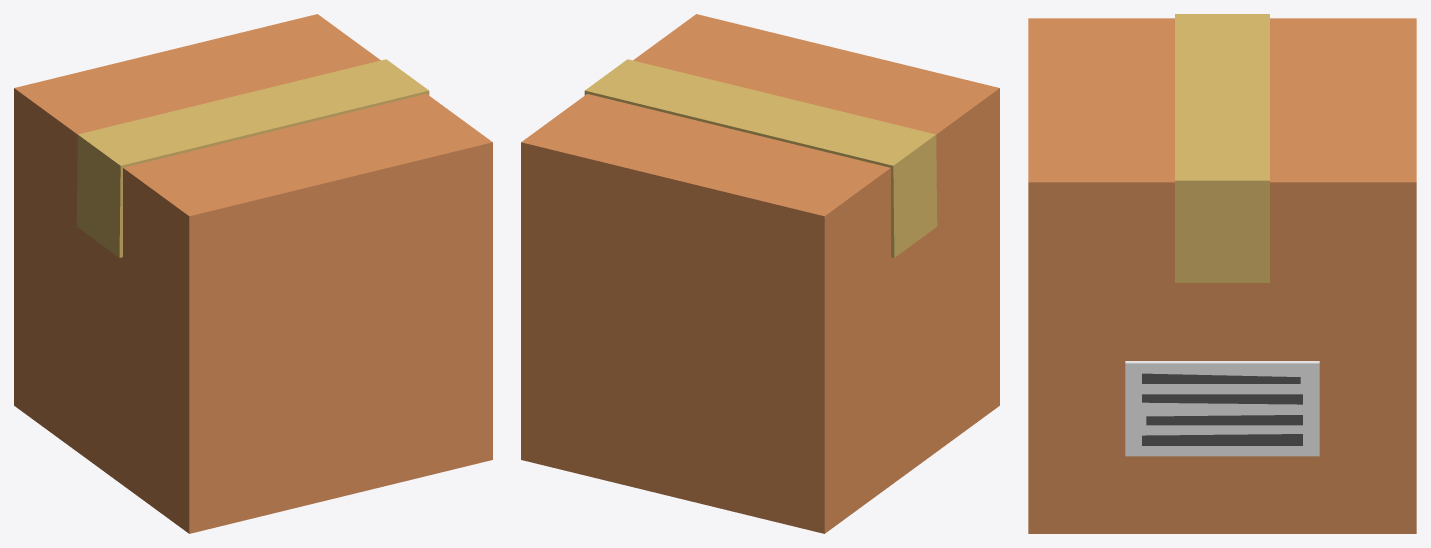
3 views of the same model, side by side, from view 1: azimuth 30°, elevation 25°; view 2: azimuth 150°, elevation 25°; view 3: azimuth 270°, elevation 25° (orthographic). The views are drawn at different scales.
Parts seen in each view (by area): view 1: Куб; view 2: Куб; view 3: Куб.
Part boxes in pixels (bbox=[...]): Куб: bbox=[14, 14, 492, 533]; Куб: bbox=[521, 14, 999, 533]; Куб: bbox=[1028, 14, 1416, 533].
Bounding box in the file's own units: 102 × 101 × 100.
